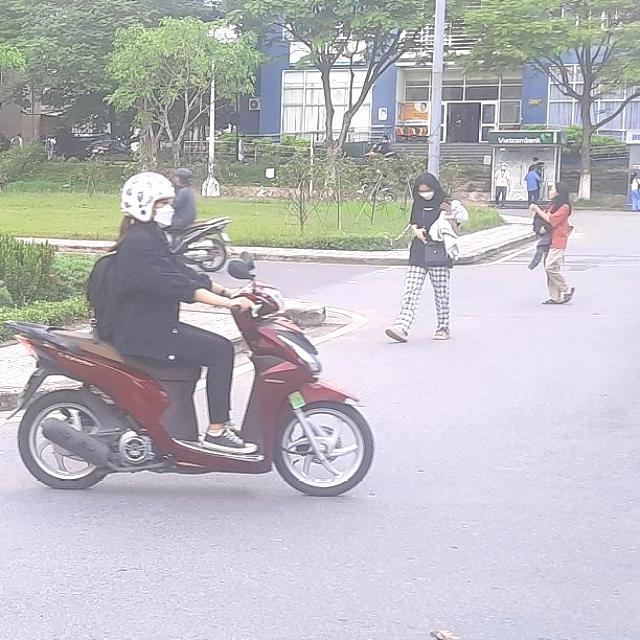Helmet: (121, 167, 180, 230)
